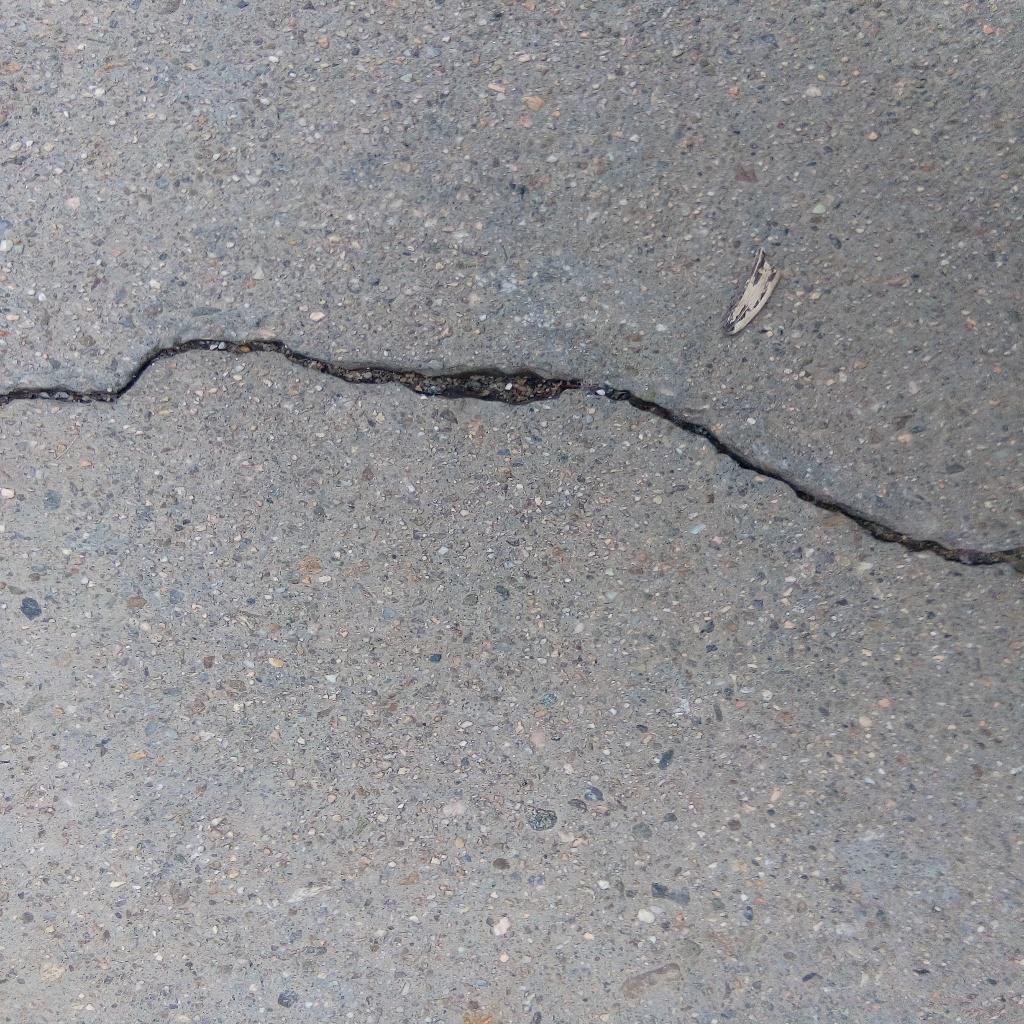Crack: (1, 333, 1024, 573)
